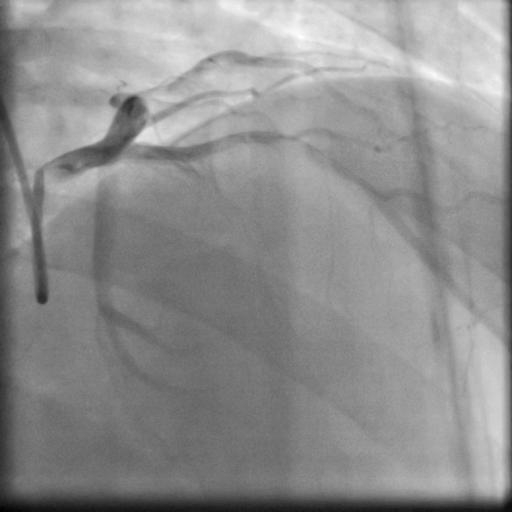Stenosis: (135, 73, 186, 94)
